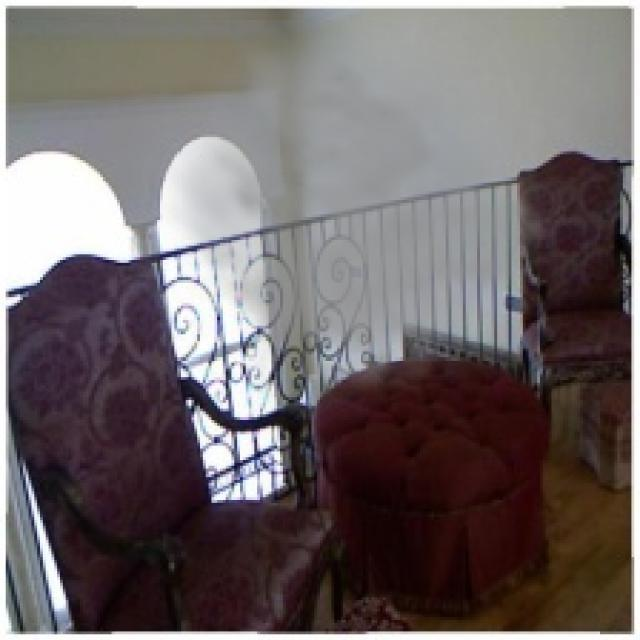Smoke: (145, 19, 566, 434)
